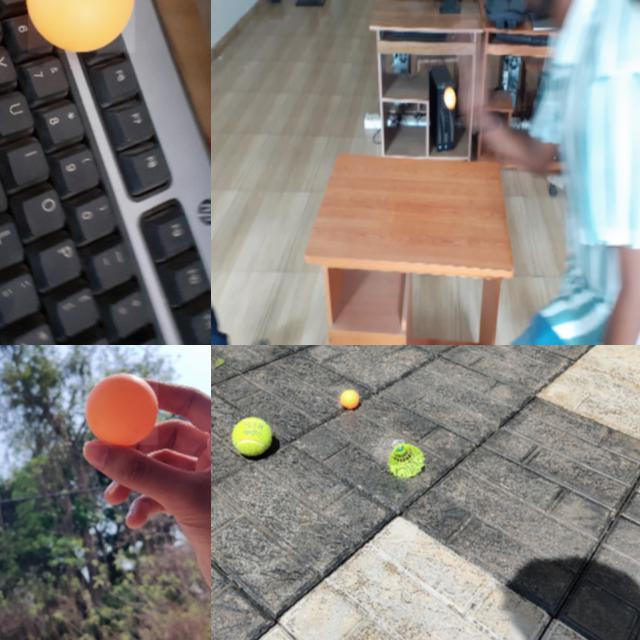ping-pong-ball: (28, 0, 137, 54), (85, 374, 159, 446), (338, 389, 360, 409), (442, 86, 455, 110)
